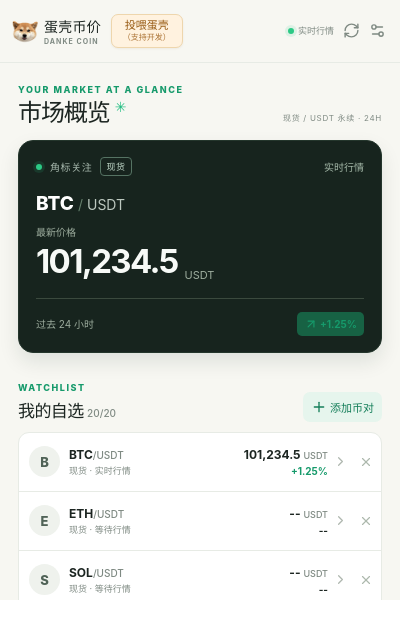
Test case: popup › does not pin a new pair when the watchlist is full
Expected: the text "101,234.5" is shown, [36,242,178,282]
What coordinates should you click on to do the following:
click the button "添加币对"
I would click on:
 (342, 407)
Its box is [303,392,382,422].
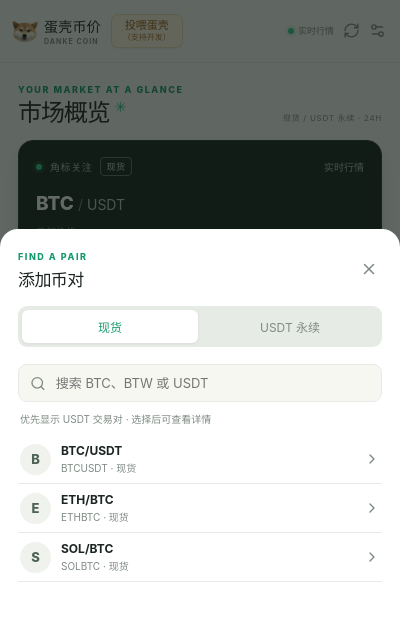
What coordinates should you click on to do the following:
click the button "E ETH/BTC ETHBTC · 现货"
I would click on:
 (36, 508)
Its box is [18,484,382,533].
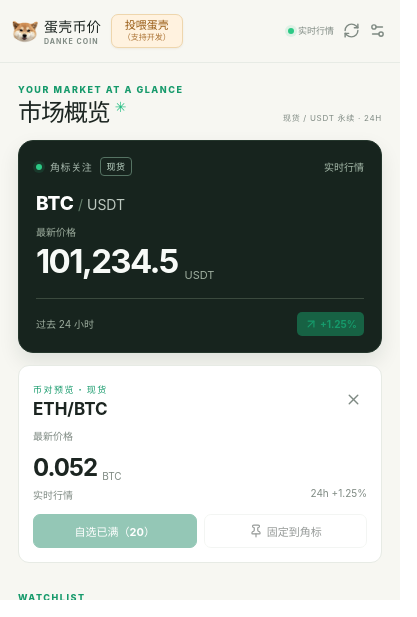
Expected: the button "固定到角标" is disabled, [204,514,367,548]
